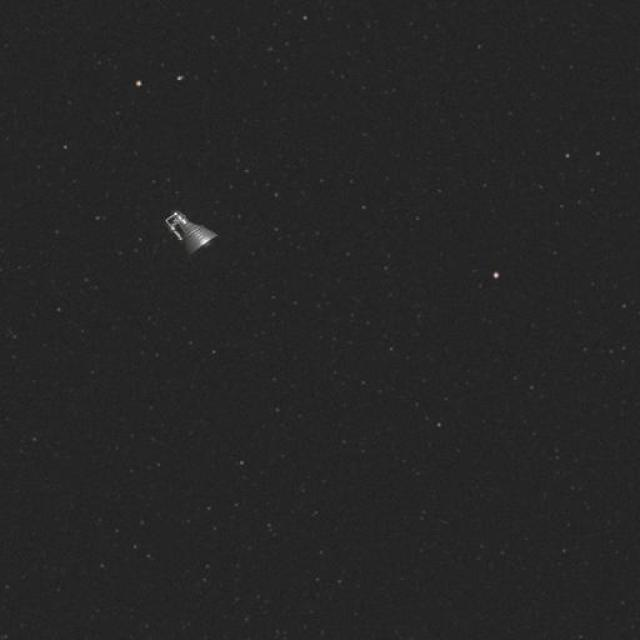debris: (151, 196, 226, 270)
